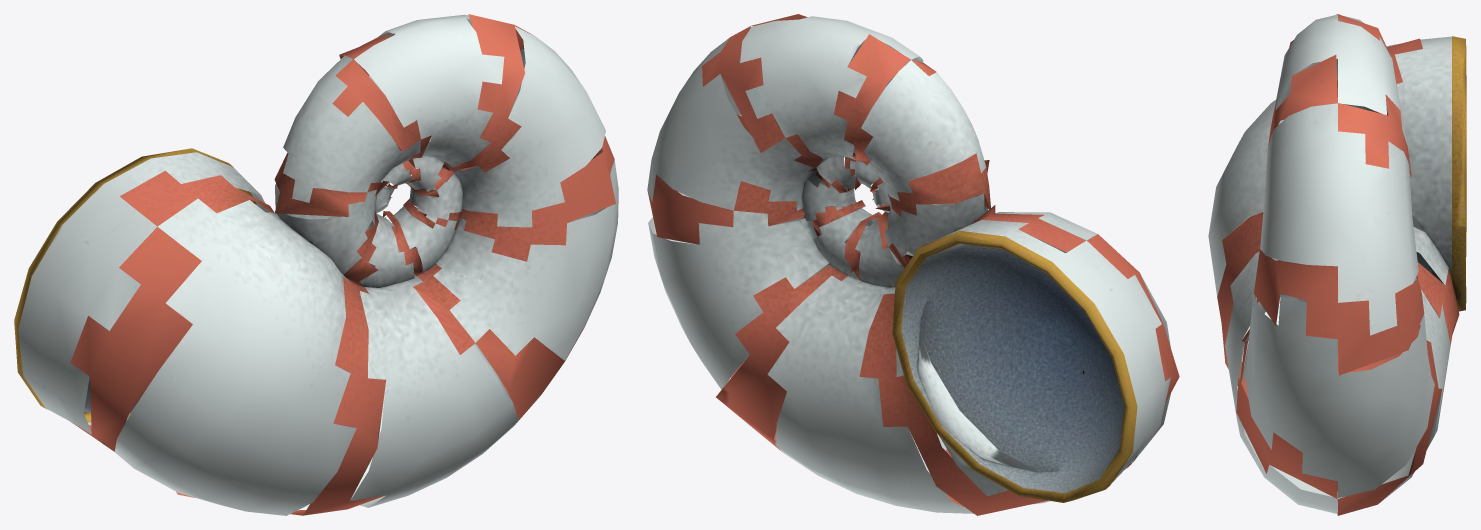
3 renders of one model, left to right at view 1: azimuth 30°, elevation 25°; view 2: azimuth 150°, elevation 25°; view 3: azimuth 270°, elevation 25°, orthographic. The views are drawn at different scales.
Parts seen in each view (by area): view 1: Foam_lacquer, Soft_coral_bands, Polished_brass_lip; view 2: Foam_lacquer, Sea_pearl_interior, Soft_coral_bands, Polished_brass_lip; view 3: Foam_lacquer, Soft_coral_bands, Polished_brass_lip.
Boxes of the visible parts, x1,y1,x2,y2 form: Foam_lacquer: (18, 14, 618, 515); Soft_coral_bands: (70, 14, 615, 515); Polished_brass_lip: (14, 148, 256, 422); Foam_lacquer: (647, 16, 1170, 513); Sea_pearl_interior: (901, 243, 1124, 493); Soft_coral_bands: (647, 14, 1179, 515); Polished_brass_lip: (892, 230, 1137, 502); Foam_lacquer: (1208, 14, 1458, 513); Soft_coral_bands: (1217, 14, 1459, 515); Polished_brass_lip: (1452, 36, 1466, 311).
Size of the model in its own units: 0.9403 by 0.7769 by 0.3676.
Materials: 4 (4 with a texture image).
